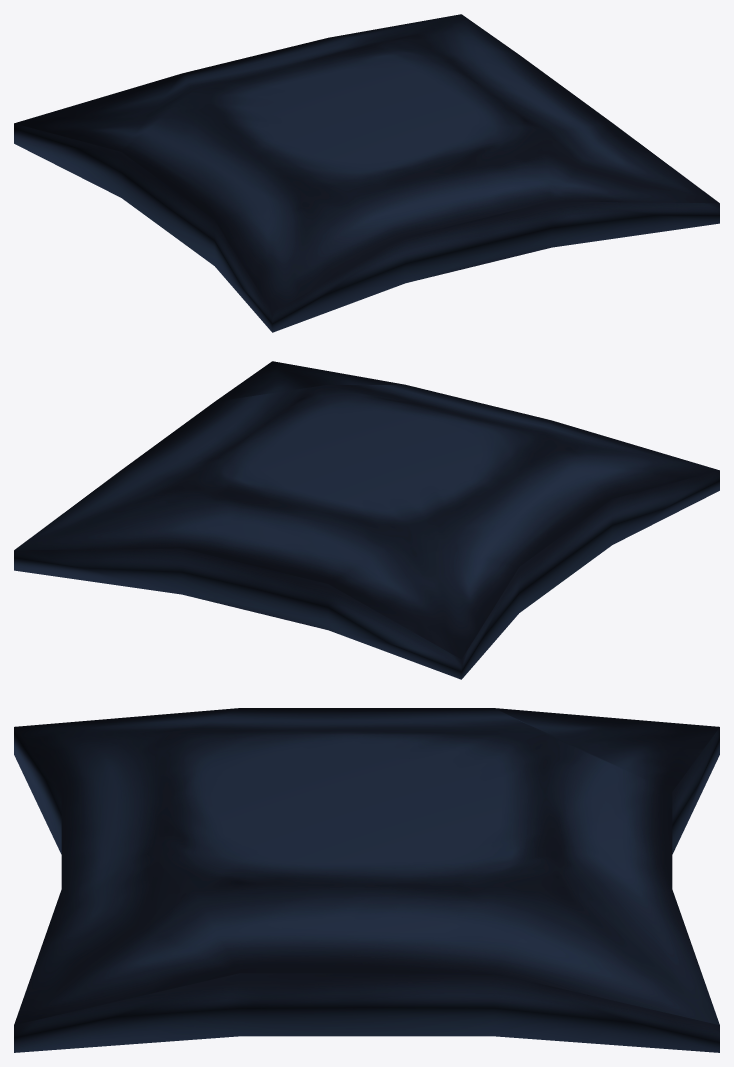
File: chair-ae524b28.gltf
3 renders of one model, top to bottom at view 1: azimuth 30°, elevation 25°; view 2: azimuth 150°, elevation 25°; view 3: azimuth 270°, elevation 25°, orthographic. The views are drawn at different scales.
Visible parts, largest first — view 1: Object_8; view 2: Object_8; view 3: Object_8.
Boxes of the visible parts, <box> form: Object_8: <box>14,14,719,332</box>; Object_8: <box>14,361,719,679</box>; Object_8: <box>14,708,719,1052</box>.
Size of the model in its own units: 83.17 by 12.9 by 83.17.
Materials: 2 (1 with a texture image).
